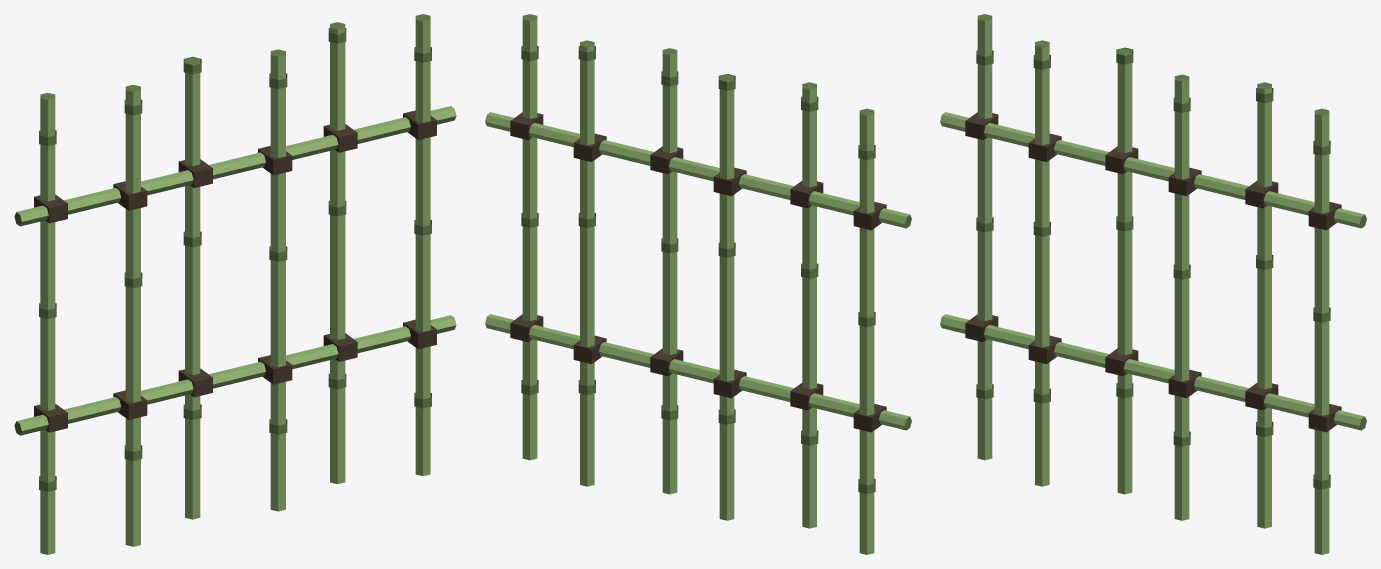
Rendered from sakura_garden_bamboo_fence_1m.glb.
The picture shows the model from 3 angles, left to right: view 1: azimuth 30°, elevation 25°; view 2: azimuth 150°, elevation 25°; view 3: azimuth 330°, elevation 25°; orthographic projection. The views are drawn at different scales.
Visible parts, largest first — view 1: sakura_garden_bamboo_fence_1m; view 2: sakura_garden_bamboo_fence_1m; view 3: sakura_garden_bamboo_fence_1m.
Boxes of the visible parts, <box> form: sakura_garden_bamboo_fence_1m: <box>14,14,456,554</box>; sakura_garden_bamboo_fence_1m: <box>485,14,911,554</box>; sakura_garden_bamboo_fence_1m: <box>940,14,1366,554</box>.
Bounding box in the file's own units: 1 × 1 × 0.0886.
Materials: 1 (1 with a texture image).
